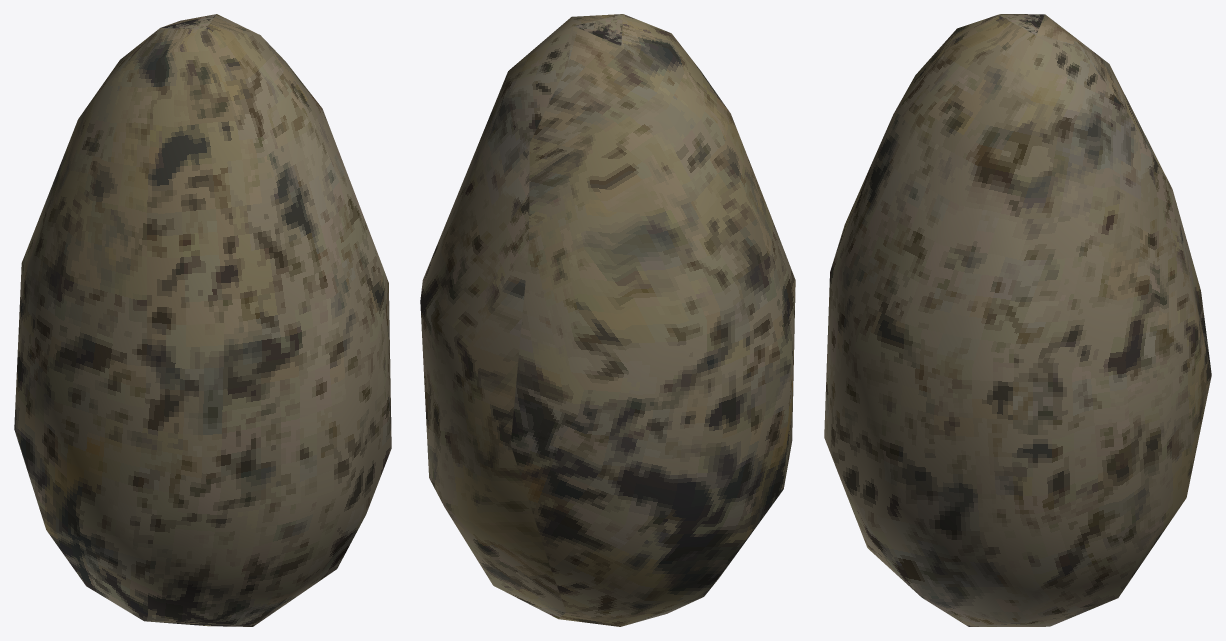
Rendered from item_egg.glb.
The picture shows the model from 3 angles, left to right: view 1: azimuth 30°, elevation 25°; view 2: azimuth 150°, elevation 25°; view 3: azimuth 270°, elevation 25°; orthographic projection.
Visible parts, largest first — view 1: Chicken_Egg_Easter; view 2: Chicken_Egg_Easter; view 3: Chicken_Egg_Easter.
Part boxes in pixels (x1,y1,x2,y2): Chicken_Egg_Easter: [14, 14, 391, 626]; Chicken_Egg_Easter: [420, 14, 795, 626]; Chicken_Egg_Easter: [824, 14, 1211, 626].
Bounding box in the file's own units: 0.2273 × 0.3875 × 0.2285.
Materials: 1 (1 with a texture image).
